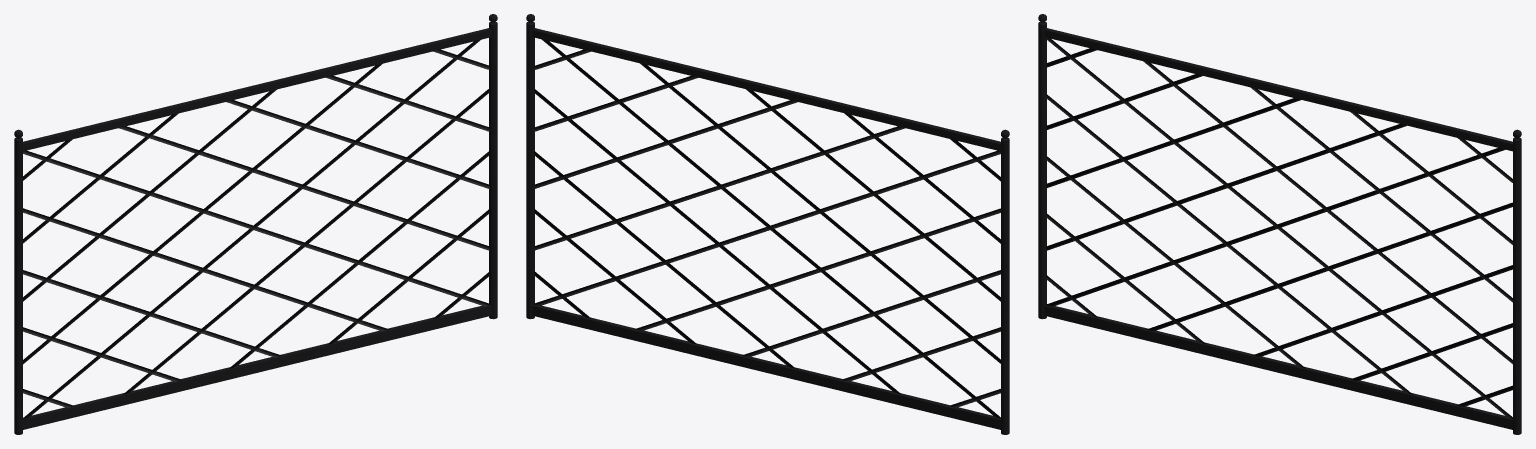
Rendered from Chainlinkfence.fbx.
3 renders of one model, left to right at view 1: azimuth 30°, elevation 25°; view 2: azimuth 150°, elevation 25°; view 3: azimuth 330°, elevation 25°, orthographic.
Parts seen in each view (by area): view 1: pCylinder2; view 2: pCylinder2; view 3: pCylinder2.
Boxes of the visible parts, x1,y1,x2,y2 form: pCylinder2: (14, 14, 497, 434); pCylinder2: (526, 14, 1009, 434); pCylinder2: (1038, 14, 1521, 434).
Bounding box in the file's own units: 247 × 148 × 3.74.
